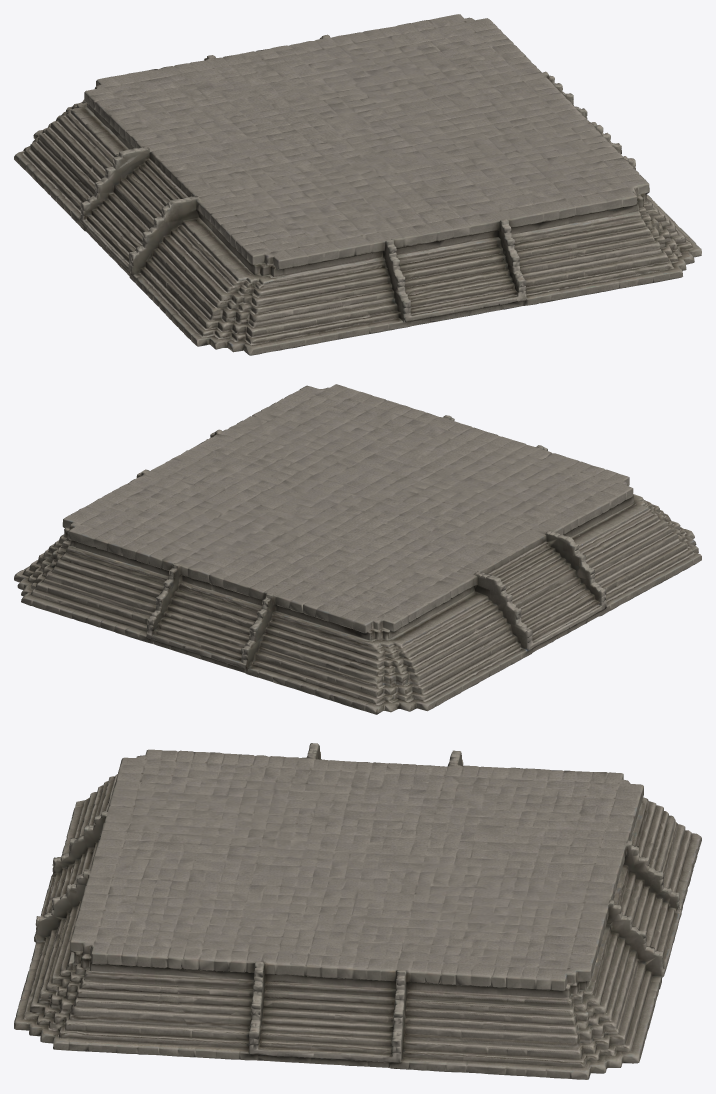
Rendered from tile.glb.
3 renders of one model, top to bottom at view 1: azimuth 30°, elevation 25°; view 2: azimuth 150°, elevation 25°; view 3: azimuth 270°, elevation 25°, orthographic. The views are drawn at different scales.
Bounding box in the file's own units: 0.9753 × 0.1257 × 0.9788.
Materials: 1 (1 with a texture image).
